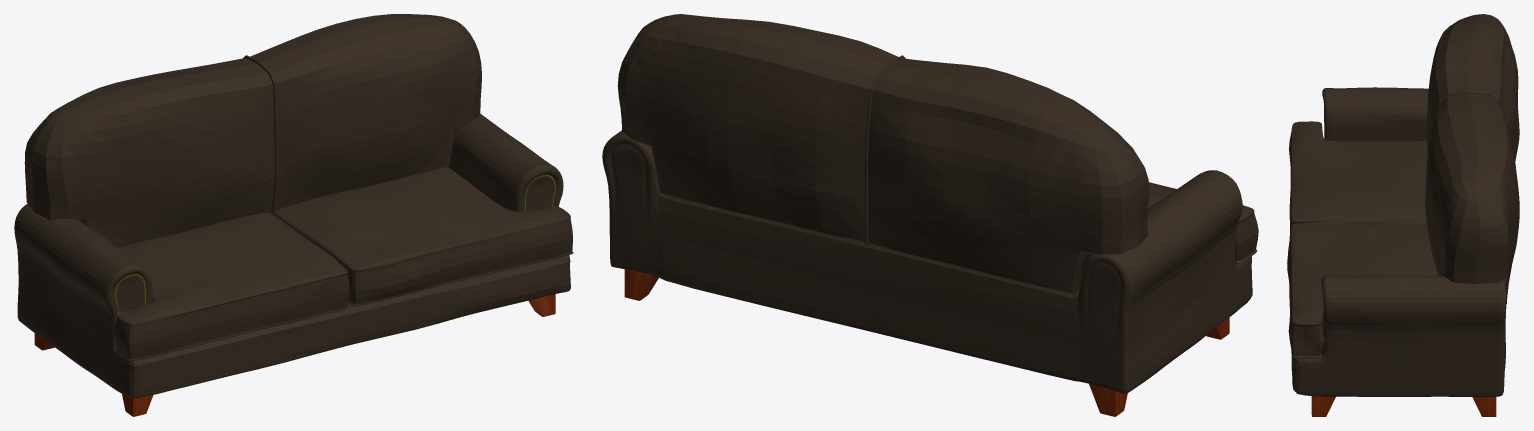
Rendered from leather_sofa.obj.
3 views of the same model, side by side, from view 1: azimuth 30°, elevation 25°; view 2: azimuth 150°, elevation 25°; view 3: azimuth 270°, elevation 25° (orthographic). The views are drawn at different scales.
Parts seen in each view (by area): view 1: back_cushion_Cube.003, sofa_bse_Cube, left_cushion_Cube.002, right_cushion_Cube.001; view 2: back_cushion_Cube.003, sofa_bse_Cube, right_cushion_Cube.001, cubeleg3_Cube.009, cubeleg4_Cube.010; view 3: sofa_bse_Cube, back_cushion_Cube.003, right_cushion_Cube.001, left_cushion_Cube.002, cubeleg1_Cube.004, cubeleg4_Cube.010.
Part boxes in pixels (left/top/right/bottom): back_cushion_Cube.003: left=24, top=14, right=481, bottom=247; sofa_bse_Cube: left=14, top=114, right=570, bottom=398; left_cushion_Cube.002: left=273, top=167, right=573, bottom=306; right_cushion_Cube.001: left=114, top=212, right=349, bottom=361; back_cushion_Cube.003: left=617, top=14, right=1149, bottom=293; sofa_bse_Cube: left=602, top=130, right=1252, bottom=393; right_cushion_Cube.001: left=1148, top=182, right=1258, bottom=264; cubeleg3_Cube.009: left=1089, top=384, right=1127, bottom=416; cubeleg4_Cube.010: left=624, top=269, right=658, bottom=300; sofa_bse_Cube: left=1291, top=87, right=1506, bottom=396; back_cushion_Cube.003: left=1425, top=14, right=1519, bottom=303; right_cushion_Cube.001: left=1289, top=121, right=1427, bottom=232; left_cushion_Cube.002: left=1287, top=221, right=1438, bottom=358; cubeleg1_Cube.004: left=1311, top=396, right=1335, bottom=416; cubeleg4_Cube.010: left=1472, top=396, right=1496, bottom=416.
Bounding box in the file's own units: 192 × 100 × 90.31.
Materials: 3 (1 with a texture image).
